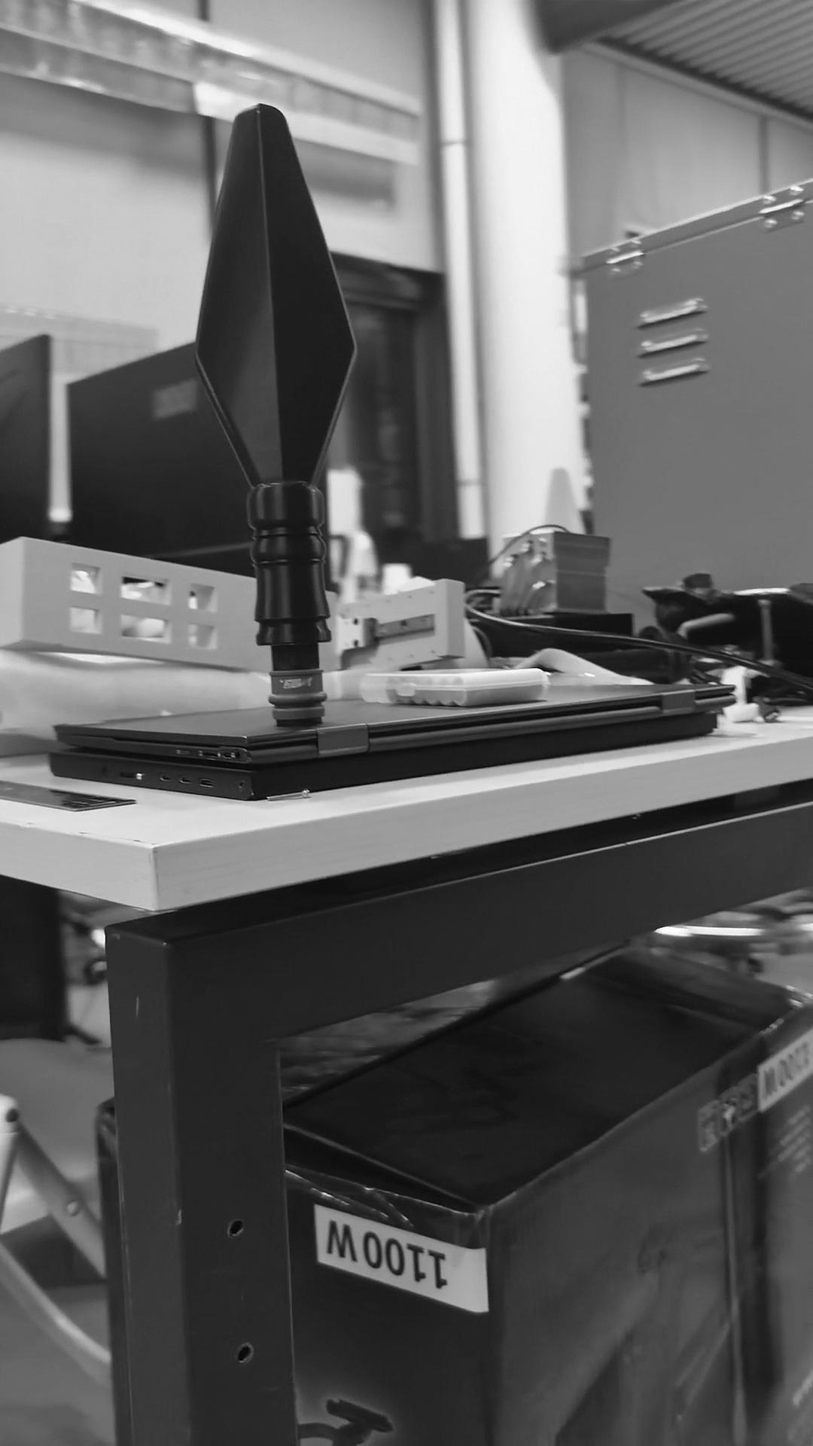base: (270, 668, 329, 724)
